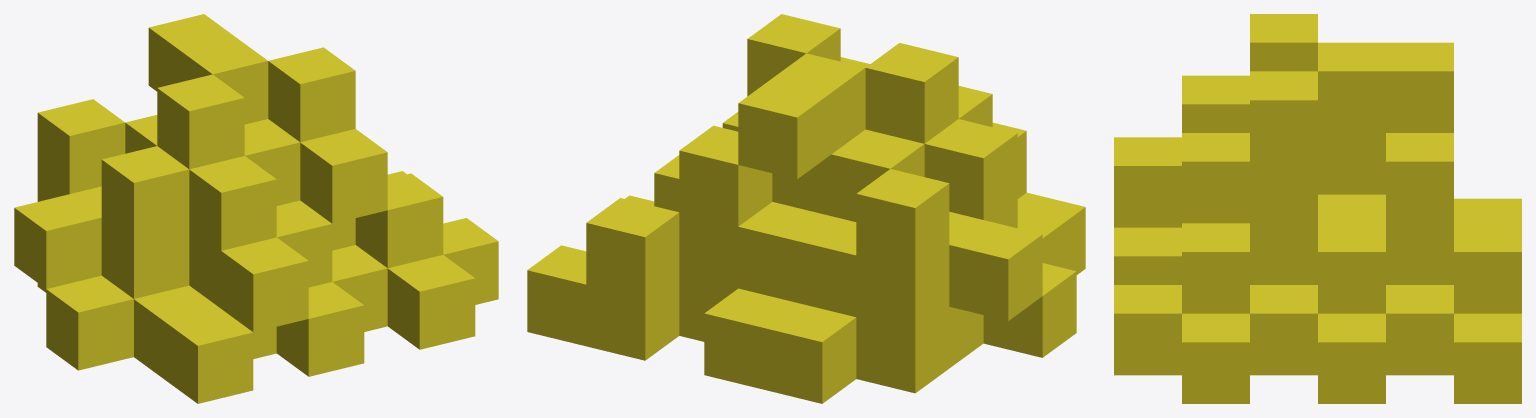
File: urania_dust.dae
3 views of the same model, side by side, from view 1: azimuth 30°, elevation 25°; view 2: azimuth 150°, elevation 25°; view 3: azimuth 270°, elevation 25° (orthographic). The views are drawn at different scales.
Visible parts, largest first — view 1: urania_dust; view 2: urania_dust; view 3: urania_dust.
Part boxes in pixels (<box>): urania_dust: <box>14,14,498,403</box>; urania_dust: <box>527,14,1085,403</box>; urania_dust: <box>1114,14,1521,403</box>.
Bounding box in the file's own units: 0.7 × 0.4 × 0.6.
1 material, 1 textured.
